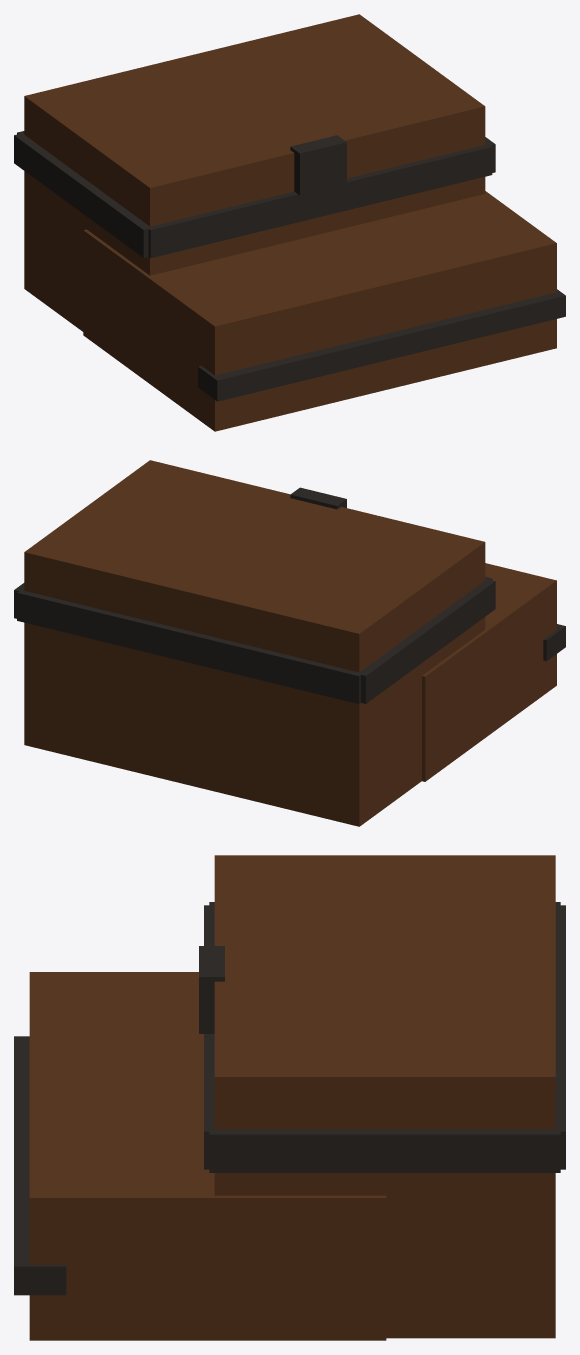
Rendered from chest_common.obj.
3 views of the same model, one above another, from view 1: azimuth 30°, elevation 25°; view 2: azimuth 150°, elevation 25°; view 3: azimuth 270°, elevation 25° (orthographic). The views are drawn at different scales.
Visible parts, largest first — view 1: chest_base, lid, strap_front, lid_strap, strap_left, clasp; view 2: chest_base, lid, strap_back, strap_left, clasp, lid_strap; view 3: chest_base, lid, strap_right, lid_strap, strap_back, clasp, strap_front.
Part boxes in pixels (x1,y1,x2,y2): chest_base: (24,14,485,331); lid: (83,191,556,431); strap_front: (141,145,492,258); lid_strap: (198,289,565,401); strap_left: (14,134,159,257); clasp: (290,135,346,195); chest_base: (24,460,485,826); lid: (422,563,556,781); strap_back: (17,588,367,703); strap_left: (350,578,495,703); clasp: (290,487,346,509); lid_strap: (543,624,565,661); chest_base: (214,855,555,1338); lid: (29,972,386,1340); strap_right: (209,1123,560,1172); lid_strap: (14,1036,66,1295); strap_back: (539,905,565,1169); clasp: (199,946,224,1033); strap_front: (204,905,229,1169).
Bounding box in the file's own units: 0.9265 × 0.4941 × 0.9287.
